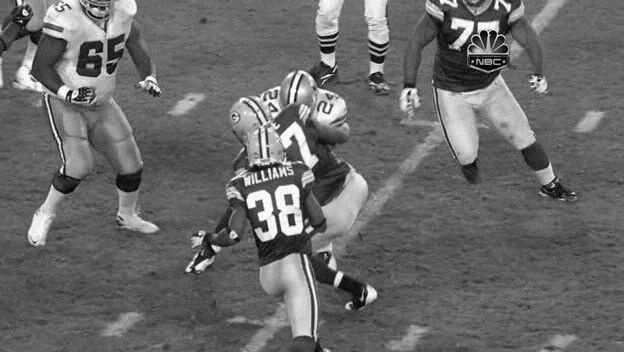person: (281, 71, 314, 112), (280, 71, 313, 112), (282, 71, 315, 112), (281, 70, 314, 111), (281, 72, 314, 113)
target_negative: (162, 28, 479, 218), (1, 220, 499, 253), (171, 125, 221, 158), (262, 274, 312, 305), (212, 22, 293, 35), (618, 133, 623, 158)
